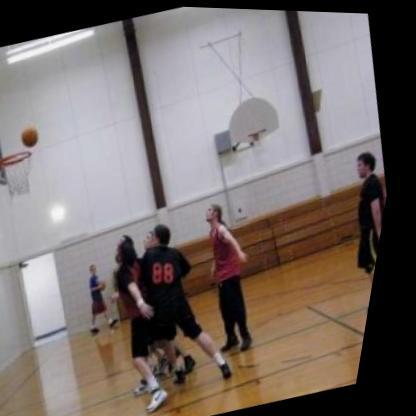basketball: (21, 122, 46, 149)
